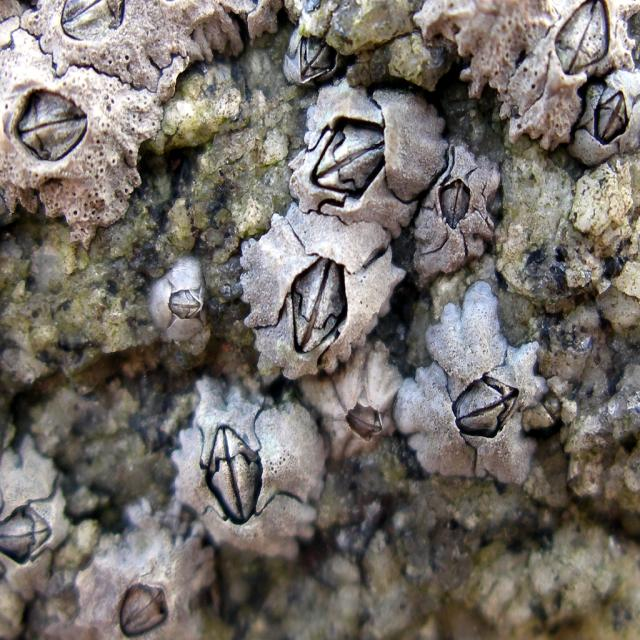barnacles: (169, 384, 327, 562), (236, 209, 400, 378), (407, 293, 542, 497), (0, 65, 148, 228), (284, 89, 434, 231), (74, 536, 220, 639), (0, 431, 73, 617), (509, 0, 632, 91), (420, 148, 499, 286), (311, 356, 401, 469), (142, 242, 212, 360), (568, 65, 639, 176)
